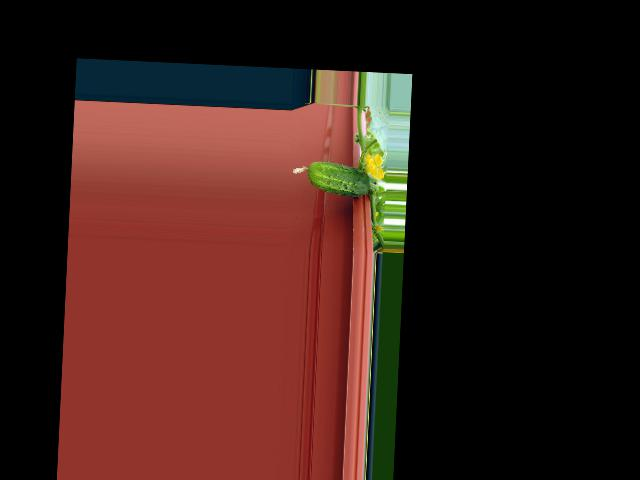cucumber: (291, 159, 371, 197)
